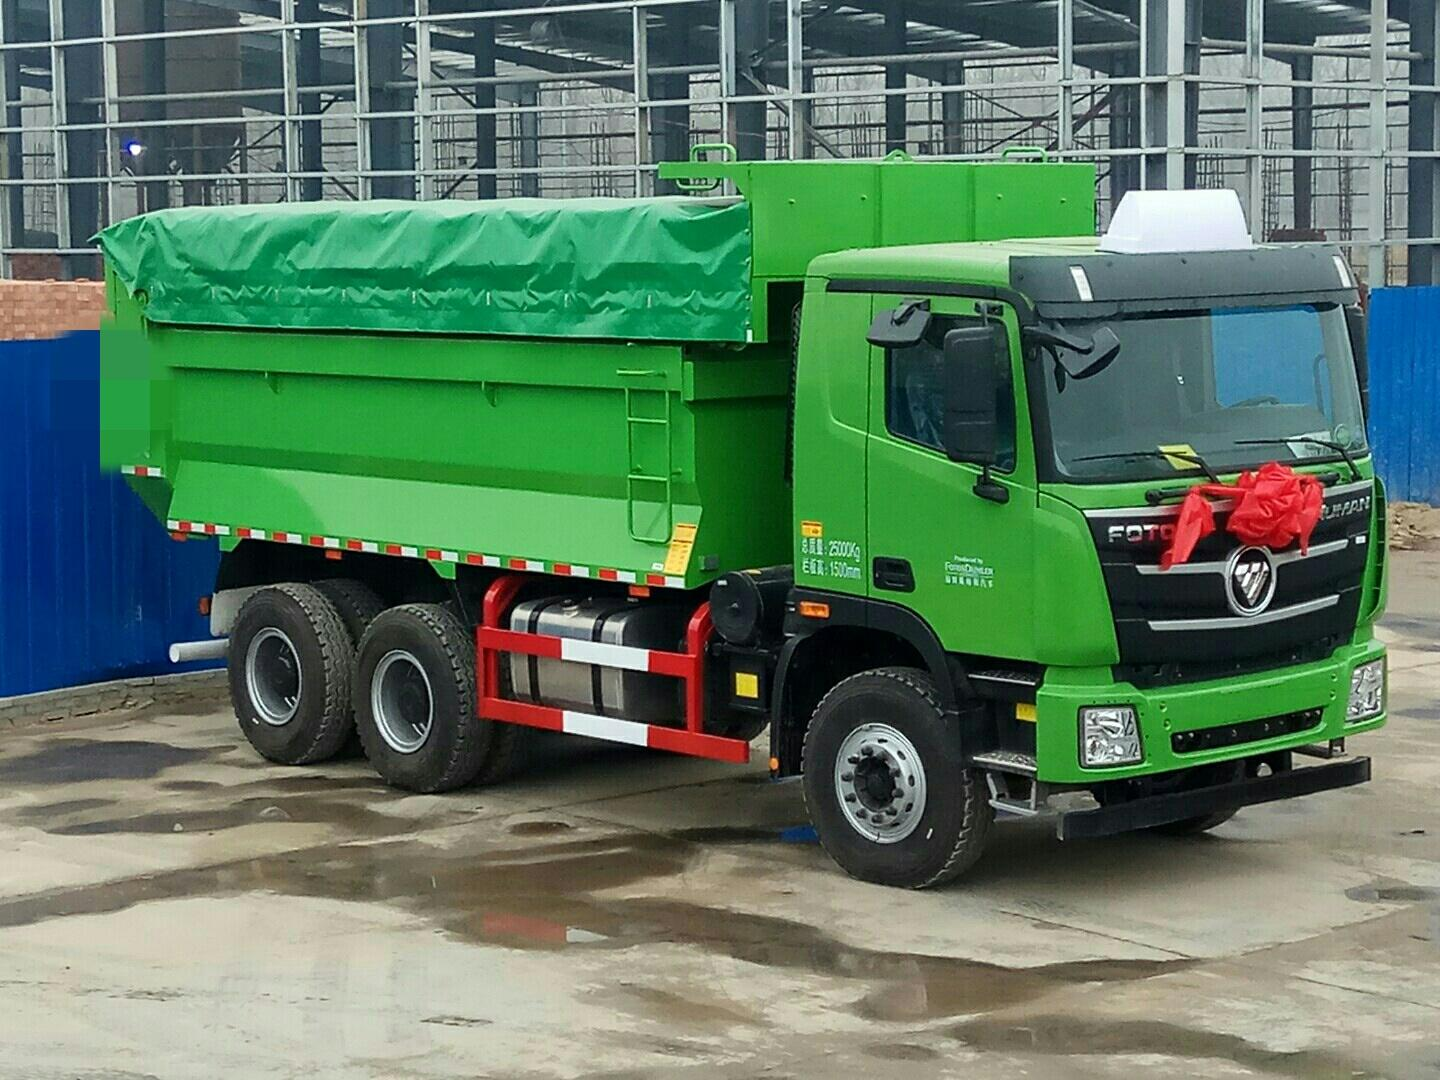truck: (73, 129, 1398, 903)
